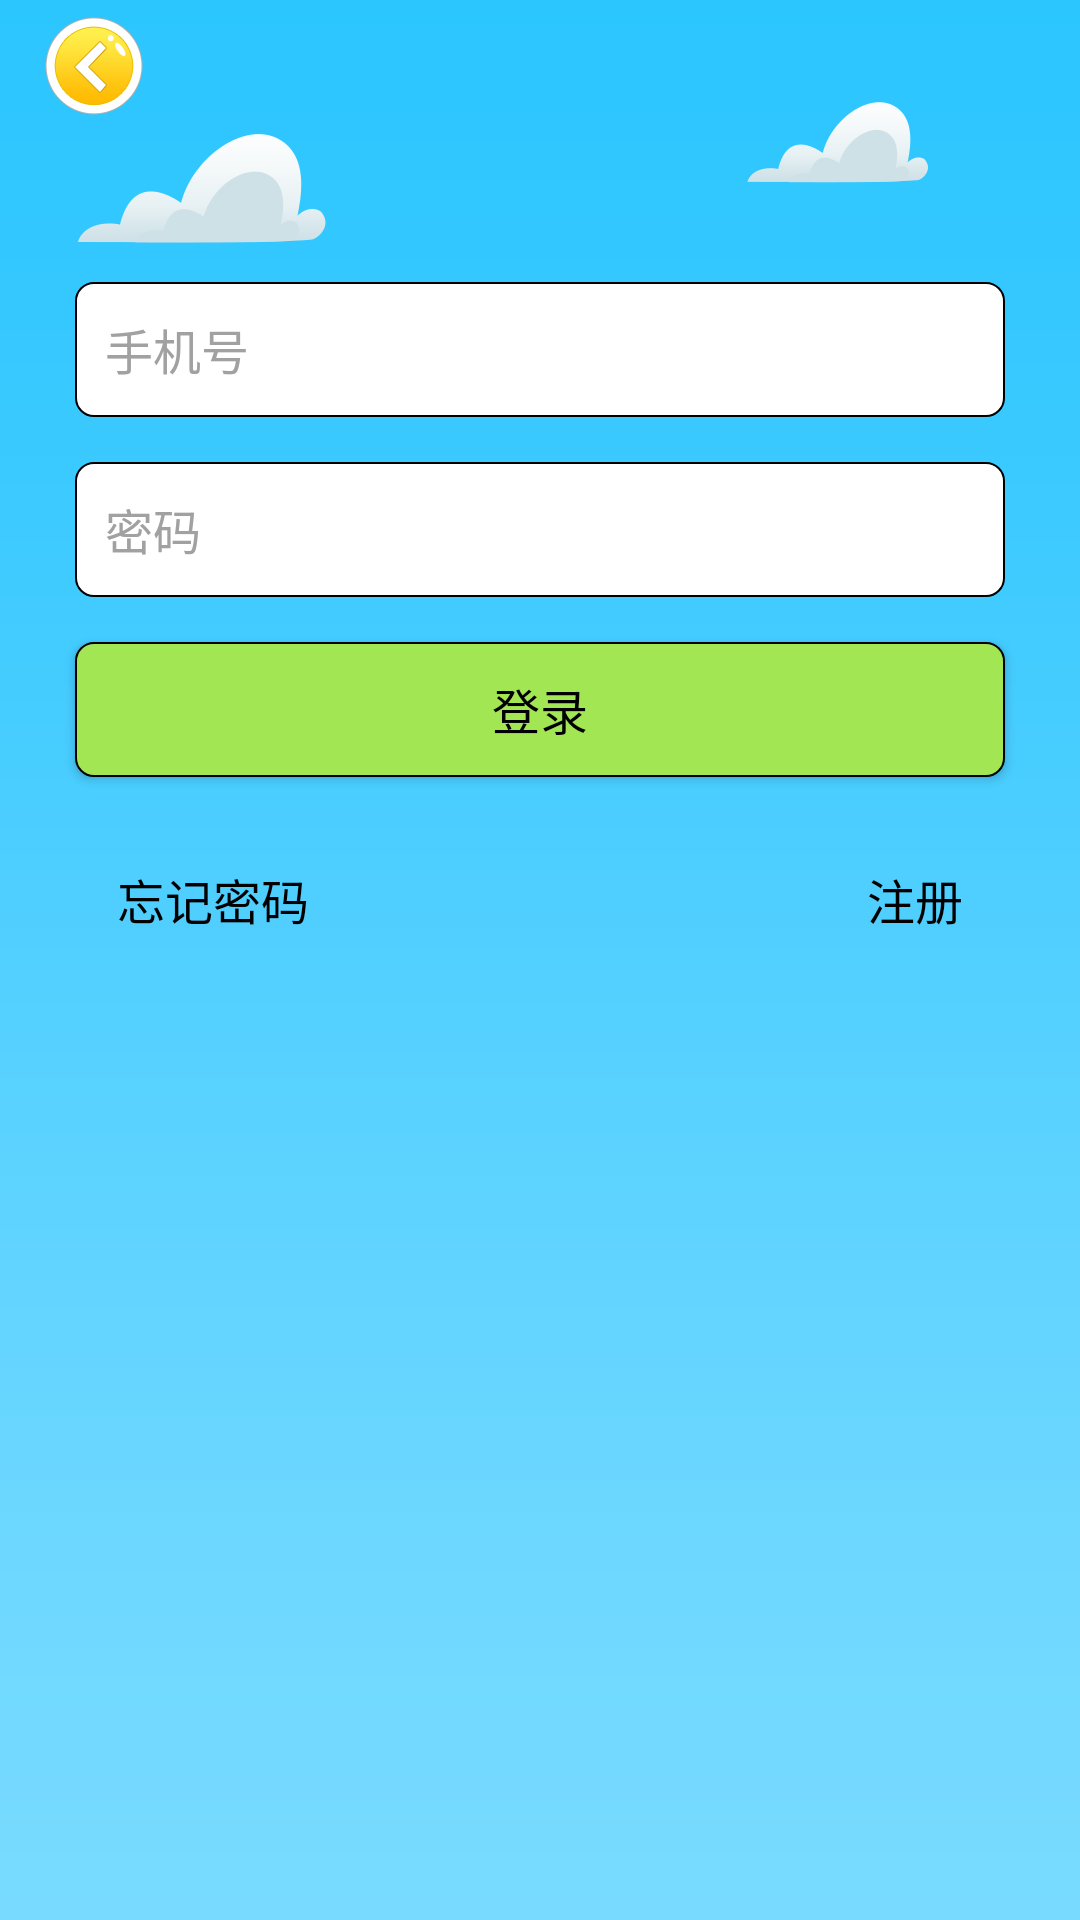

Where to tap for icons on this 1080w x 1920h app screen, as [x,y]:
back: [94,66]
